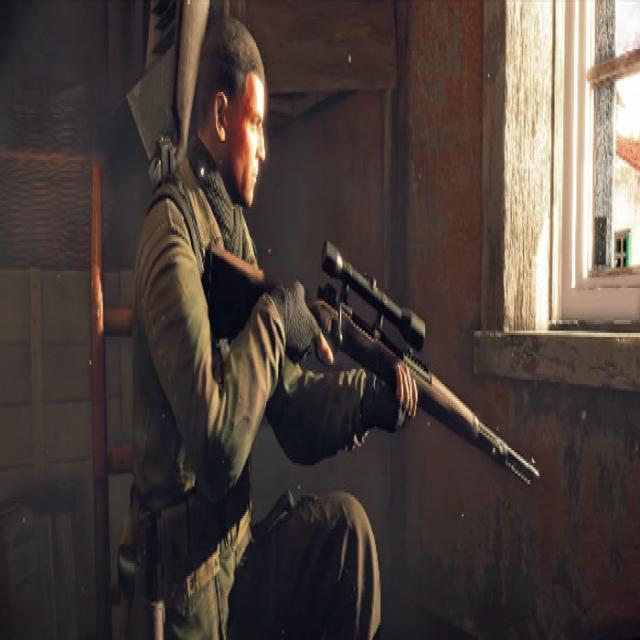rifle: (198, 212, 558, 496)
